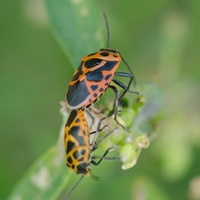insect: (61, 13, 144, 199)
